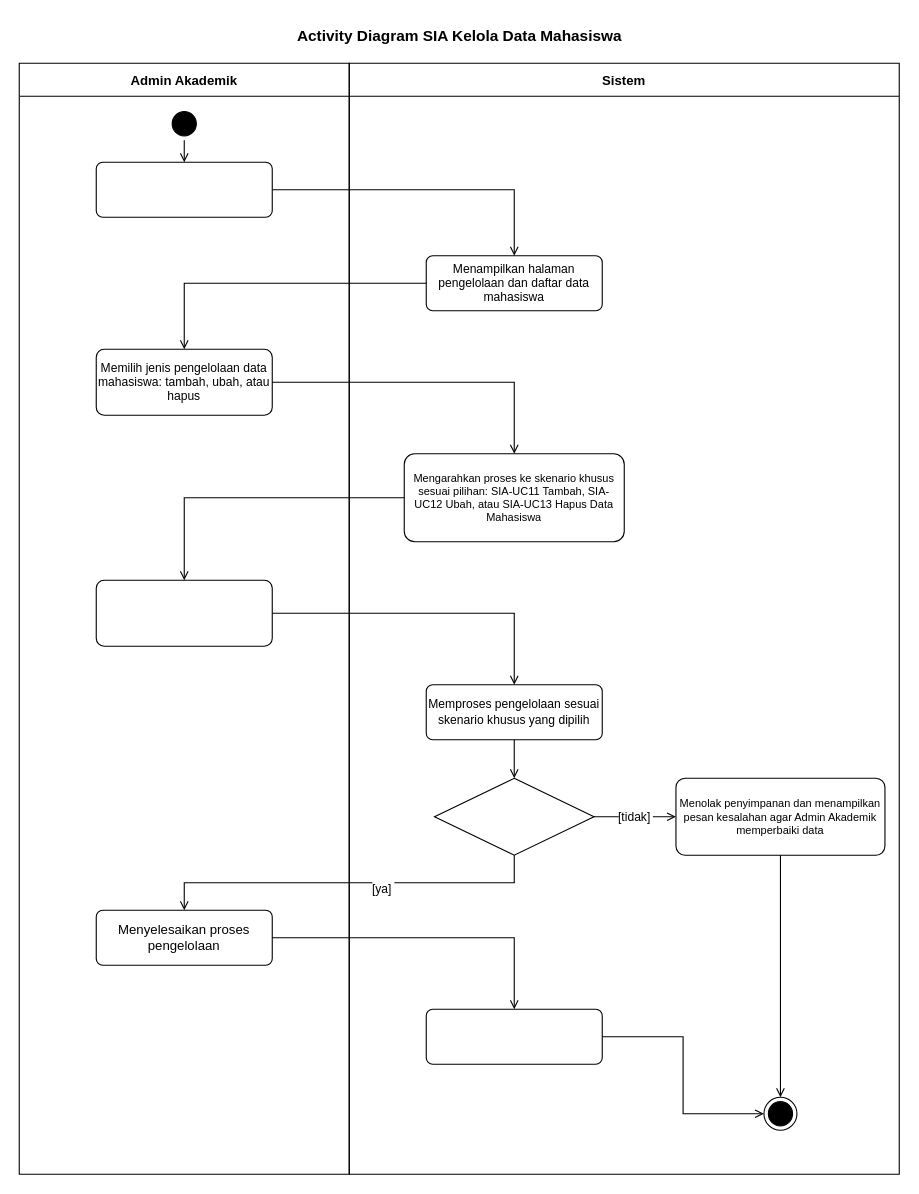
The diagram is 919 pixels wide and 1194 high, and some of its shapes have lost their labels. Here are the shapes that lost their labels. From the top down, the centre of each, then its label:
the point at 183,189: Membuka menu Kelola Data Mahasiswa
the point at 183,612: Menjalankan langkah pengelolaan sesuai skenario khusus yang dipilih
the point at 513,816: Data lengkap dan sesuai ketentuan?
the point at 513,1036: Menampilkan konfirmasi hasil pengelolaan data mahasiswa
